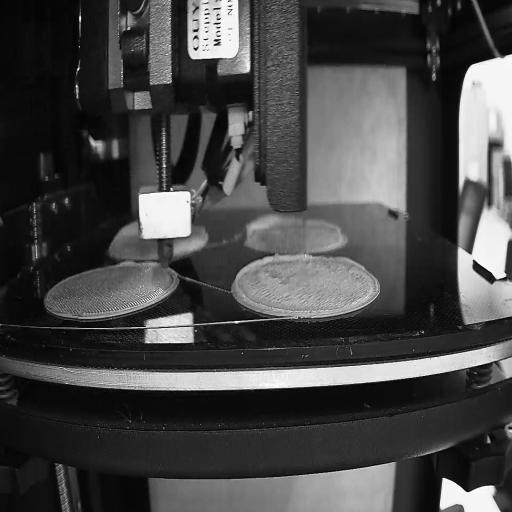over_extrusion: (234, 251, 307, 315), (244, 212, 304, 236), (306, 216, 340, 233), (338, 252, 366, 270), (116, 262, 142, 272), (196, 222, 206, 236)
